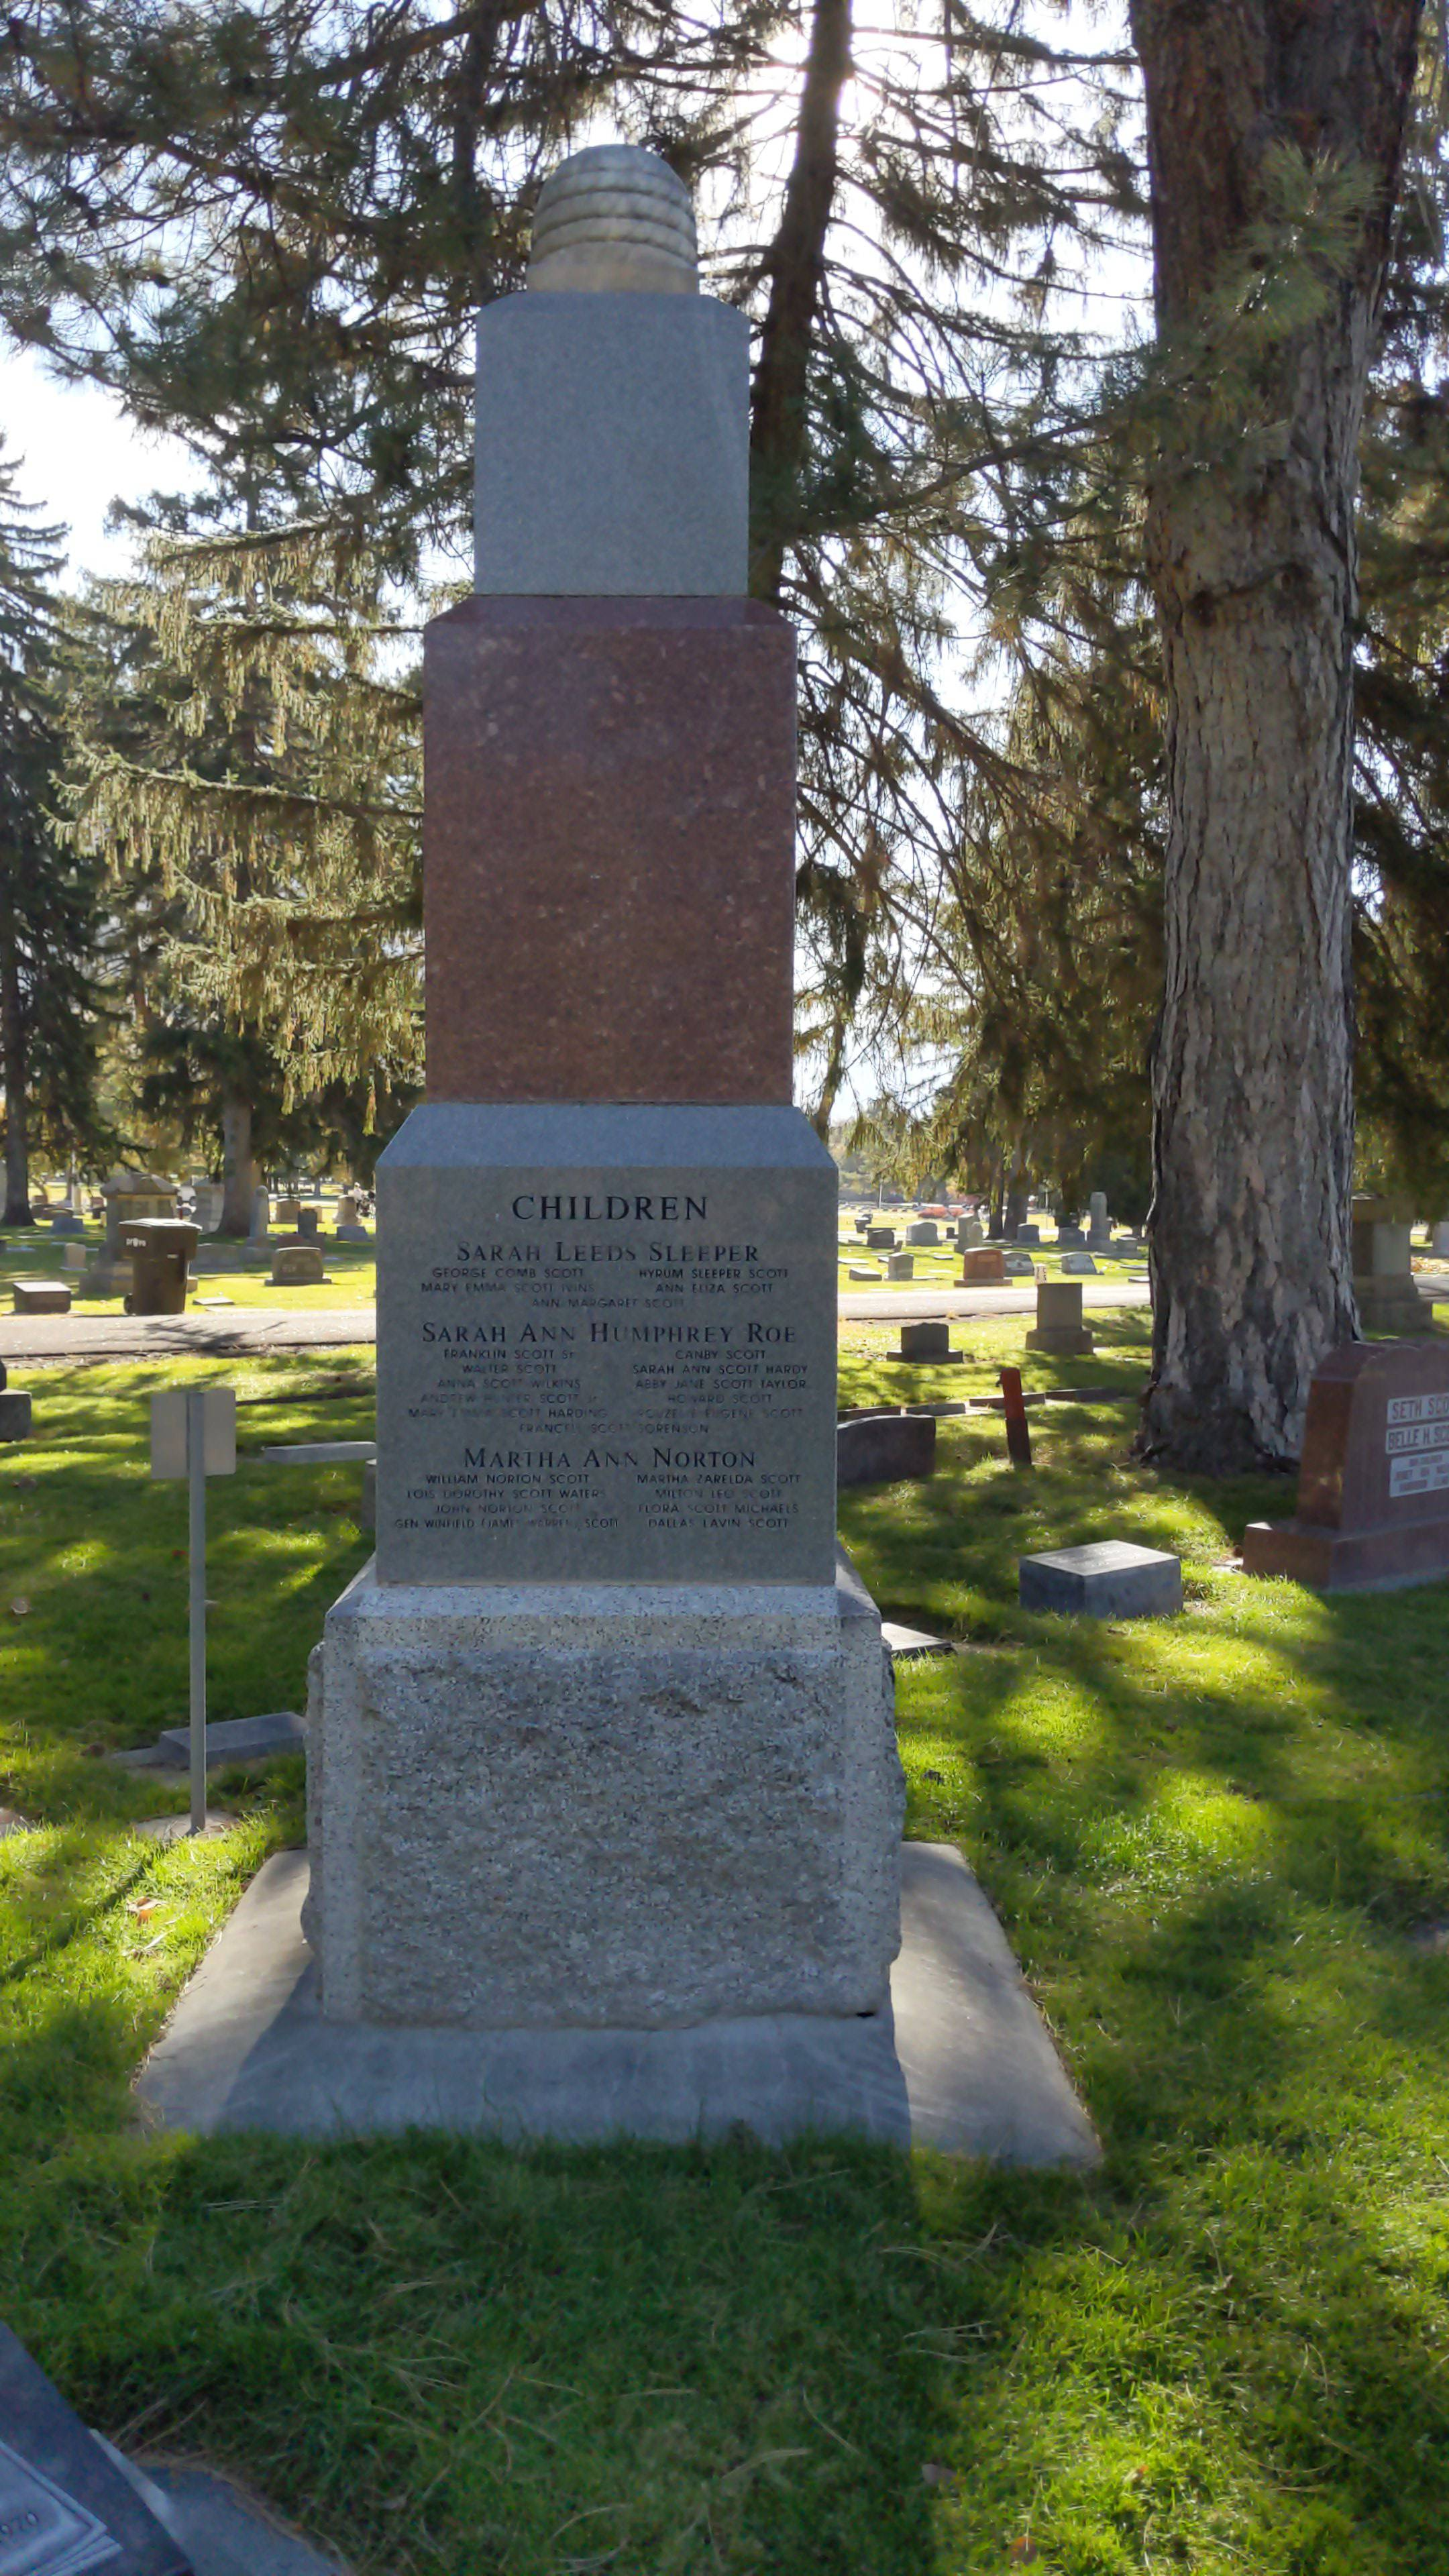obelisk: (308, 152, 897, 2015)
